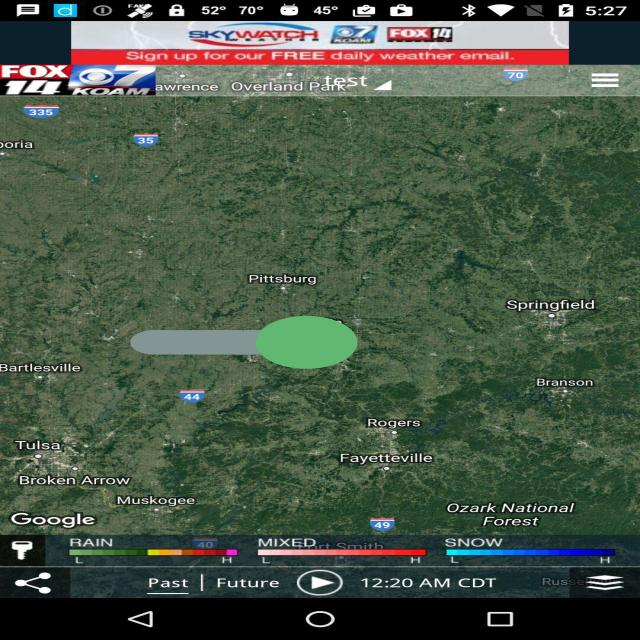social proof: (130, 284, 358, 402)
